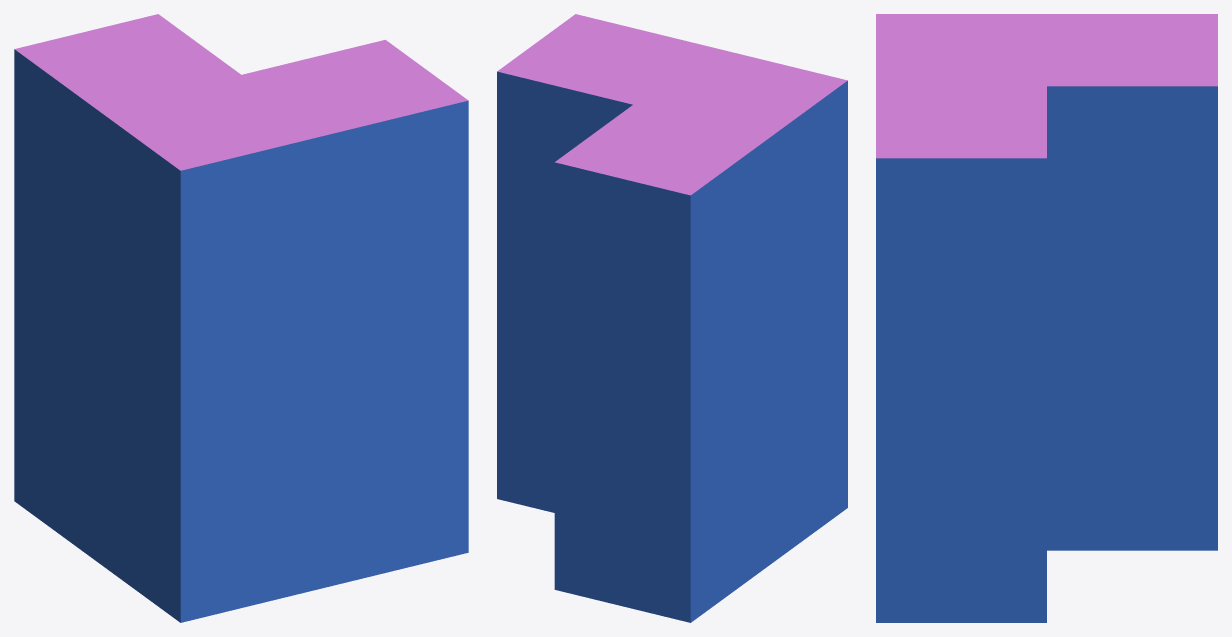
File: walls_type_3.glb
3 views of the same model, side by side, from view 1: azimuth 30°, elevation 25°; view 2: azimuth 150°, elevation 25°; view 3: azimuth 270°, elevation 25° (orthographic). The views are drawn at different scales.
Parts seen in each view (by area): view 1: Type_C; view 2: Type_C; view 3: Type_C.
Boxes of the visible parts, x1=… form: Type_C: x1=14, y1=14, x2=468, y2=622; Type_C: x1=497, y1=14, x2=847, y2=622; Type_C: x1=876, y1=14, x2=1217, y2=622.
Bounding box in the file's own units: 0.6667 × 1 × 0.6667.
